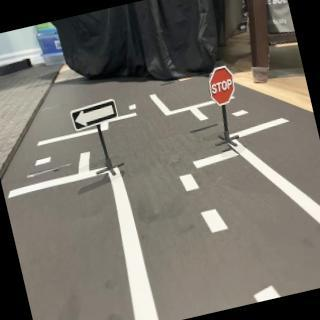sign_oneway_left: (70, 98, 121, 134)
sign_stop: (205, 64, 242, 109)
